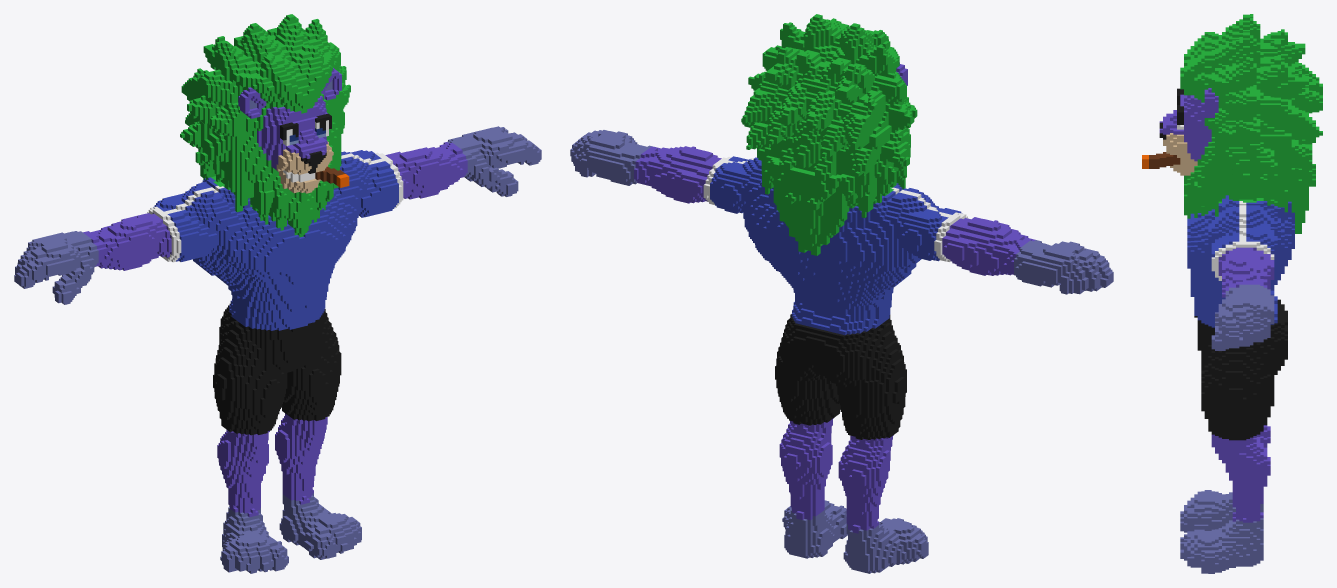
The model's file is 681-D_mtBoCX.glb.
The picture shows the model from 3 angles, left to right: view 1: azimuth 30°, elevation 25°; view 2: azimuth 150°, elevation 25°; view 3: azimuth 270°, elevation 25°; orthographic projection. The views are drawn at different scales.
Parts seen in each view (by area): view 1: cigar; view 2: cigar; view 3: cigar.
Part boxes in pixels (bbox=[...]): cigar: bbox=[14, 14, 541, 573]; cigar: bbox=[570, 14, 1113, 573]; cigar: bbox=[1142, 14, 1322, 573].
Size of the model in its own units: 17.2 by 16.5 by 5.2.
Materials: 5 (5 with a texture image).
